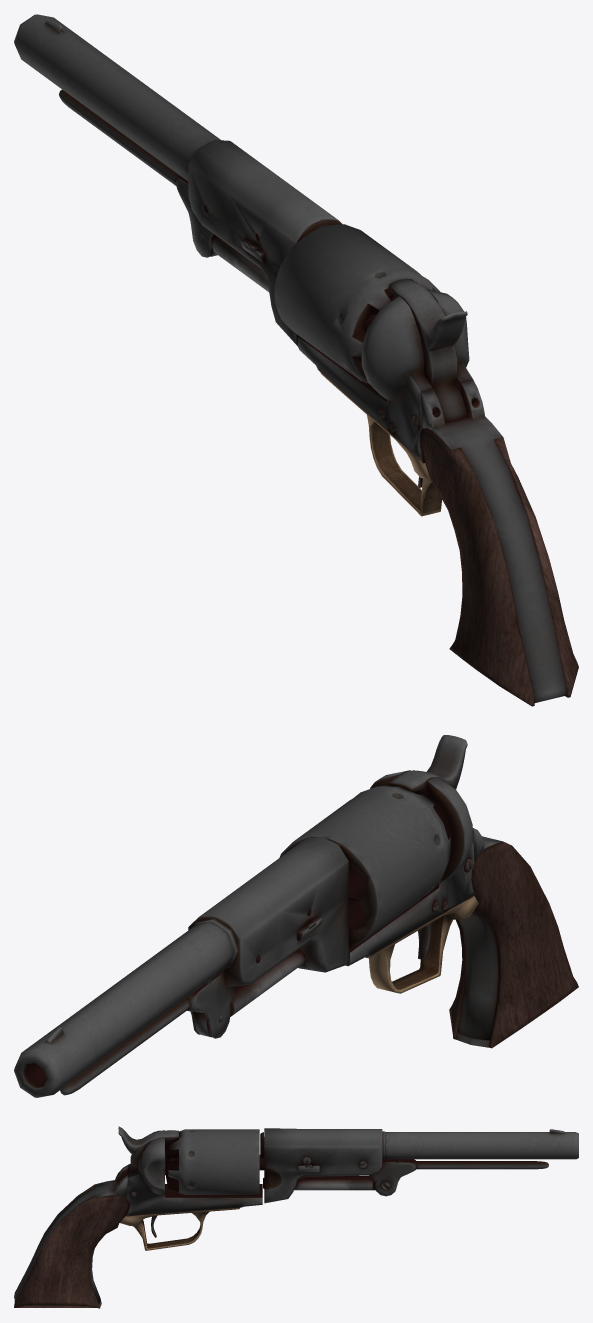
3 views of the same model, one above another, from view 1: azimuth 30°, elevation 25°; view 2: azimuth 150°, elevation 25°; view 3: azimuth 270°, elevation 25° (orthographic). The views are drawn at different scales.
Visible parts, largest first — view 1: part_1_low, part_2_handle_3_low, part_5_baraban_low, part_2_handle_1_low, part_2_low, part_3_triger_low, part_2_handle_2_low, part_6_compressor_low, part_7_other_low; view 2: part_1_low, part_5_baraban_low, part_2_handle_3_low, part_2_handle_2_low, part_2_low, part_6_compressor_low, part_3_triger_low, part_7_other_low, part_2_handle_1_low; view 3: part_1_low, part_2_handle_3_low, part_5_baraban_low, part_2_low, part_6_compressor_low, part_7_other_low, part_2_handle_1_low, part_2_handle_2_low, part_3_triger_low.
Boxes of the visible parts, box(x1,y1,x2,y2) form: part_1_low: box(14, 14, 342, 345); part_2_handle_3_low: box(421, 428, 578, 706); part_5_baraban_low: box(274, 224, 440, 383); part_2_handle_1_low: box(421, 379, 567, 702); part_2_low: box(297, 289, 472, 463); part_3_triger_low: box(389, 278, 467, 422); part_2_handle_2_low: box(320, 372, 441, 516); part_6_compressor_low: box(59, 89, 214, 257); part_7_other_low: box(203, 205, 476, 434); part_1_low: box(14, 837, 348, 1097); part_5_baraban_low: box(279, 785, 451, 947); part_2_handle_3_low: box(449, 841, 578, 1048); part_2_handle_2_low: box(365, 896, 498, 1040); part_2_low: box(345, 770, 475, 966); part_6_compressor_low: box(60, 970, 236, 1095); part_3_triger_low: box(389, 735, 467, 795); part_7_other_low: box(195, 857, 472, 1037); part_2_handle_1_low: box(456, 828, 502, 1047); part_1_low: box(260, 1128, 578, 1203); part_2_handle_3_low: box(14, 1184, 129, 1308); part_5_baraban_low: box(166, 1129, 259, 1195); part_2_low: box(125, 1130, 262, 1216); part_6_compressor_low: box(369, 1159, 548, 1196); part_7_other_low: box(130, 1155, 390, 1196); part_2_handle_1_low: box(14, 1165, 128, 1306); part_2_handle_2_low: box(89, 1208, 239, 1303); part_3_triger_low: box(118, 1126, 178, 1179).
Bounding box in the file's own units: 49.81 × 148 × 429.
